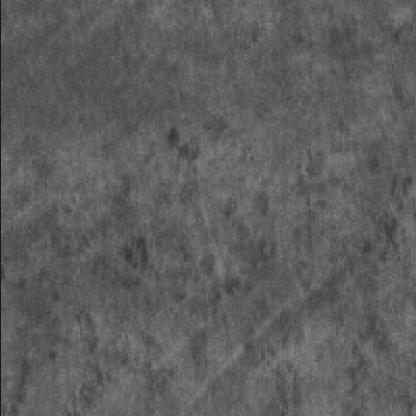rolled-in_scale: (5, 100, 278, 320), (292, 122, 414, 254)
